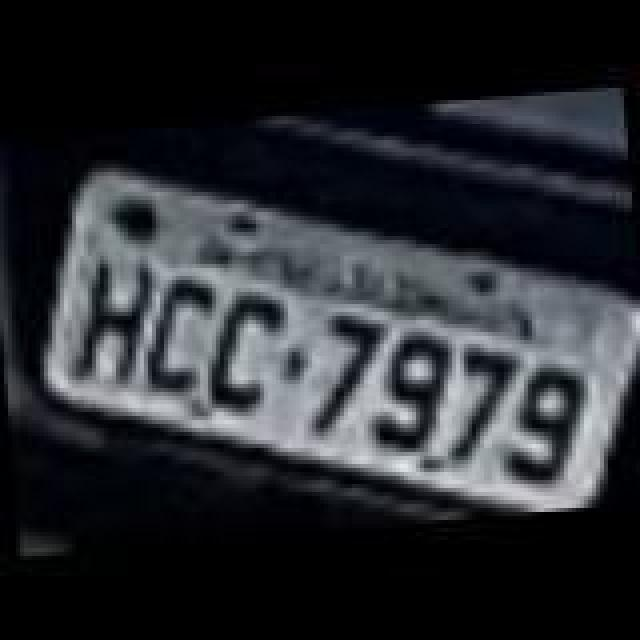7: (298, 310, 390, 442), (438, 340, 538, 460)
9: (490, 360, 598, 488), (362, 322, 454, 446)
C: (132, 268, 228, 404), (202, 286, 294, 418)
H: (60, 248, 164, 392)
